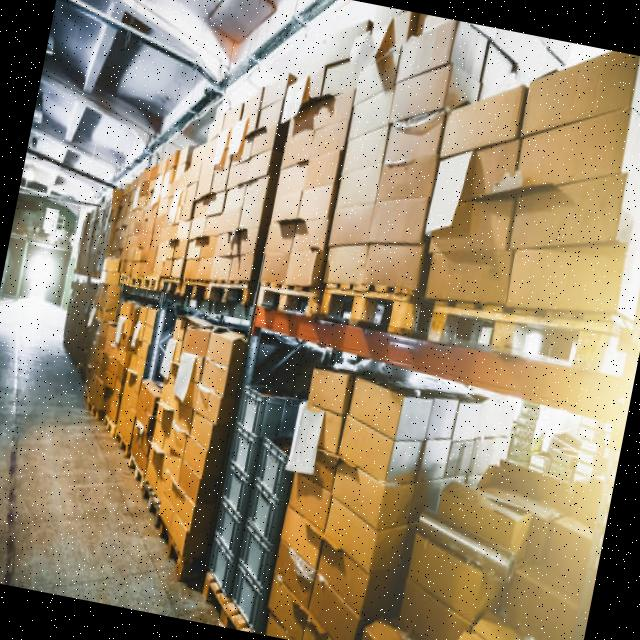Wooden-Pallets: (417, 289, 623, 389), (314, 279, 417, 355), (248, 275, 320, 324), (149, 510, 186, 591), (200, 272, 254, 314), (153, 273, 183, 309)
